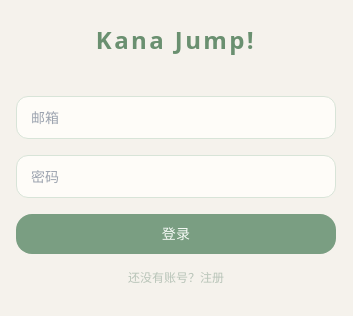
Test: AuthGate › shows success message on sign-up
Click the button "还没有账号？注册".
click(176, 278)  # box [16,270,336,286]
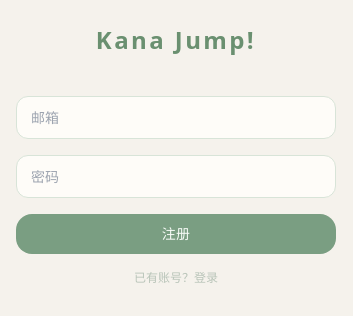
Type "new@example.com" into the field with placeholder "邮箱".
click(176, 118); type("new@example.com")  # box [16,96,336,139]
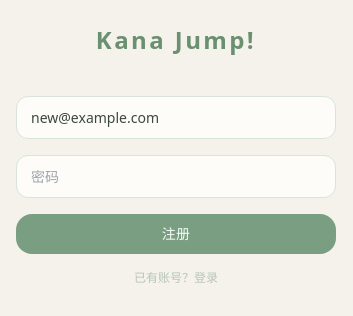
Type "newpass" into the password field with placeholder "密码".
click(176, 176); type("newpass")  # box [16,155,336,198]
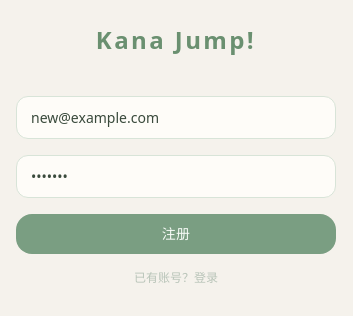
Click the button "注册".
click(176, 234)  # box [16,214,336,254]
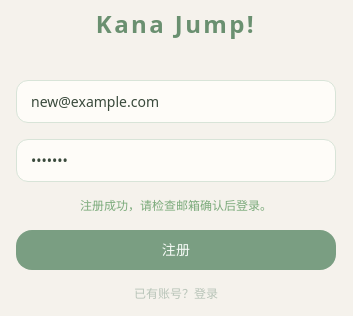
Expected: the text "注册成功，请检查邮箱确认后登录。" is shown, [80,197,272,214]
